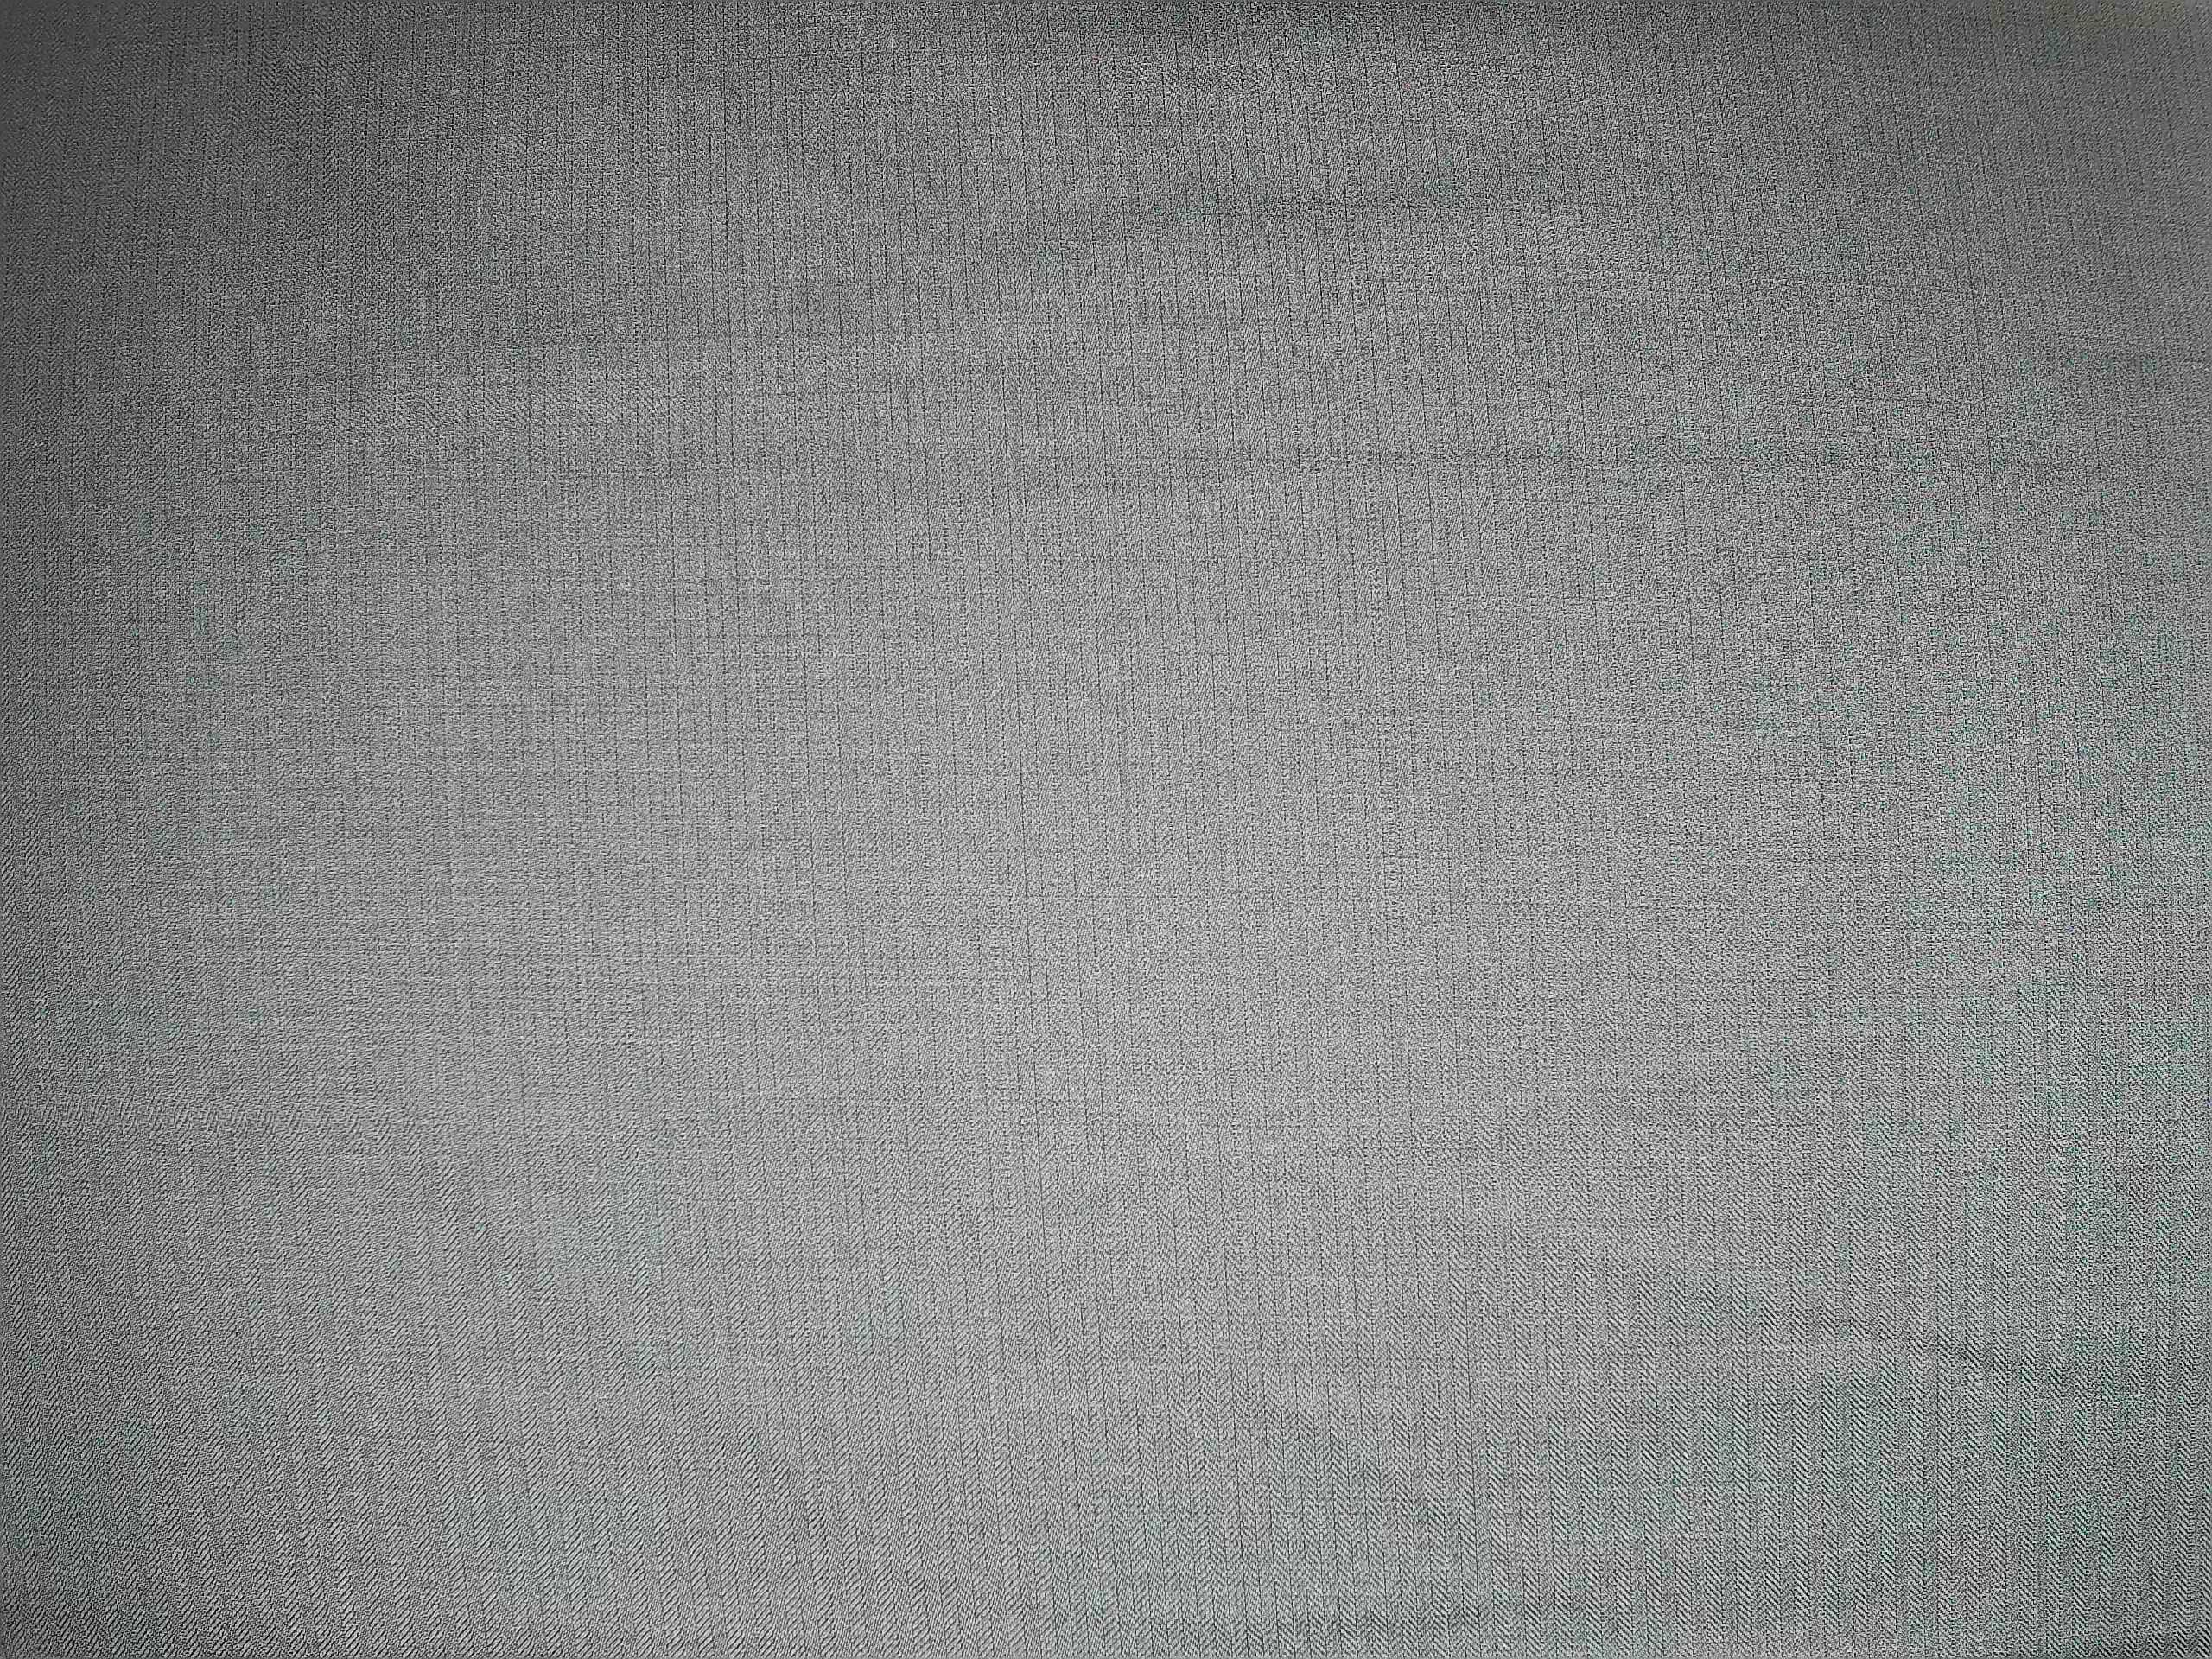thin-spinning: (1066, 427, 2130, 505)
